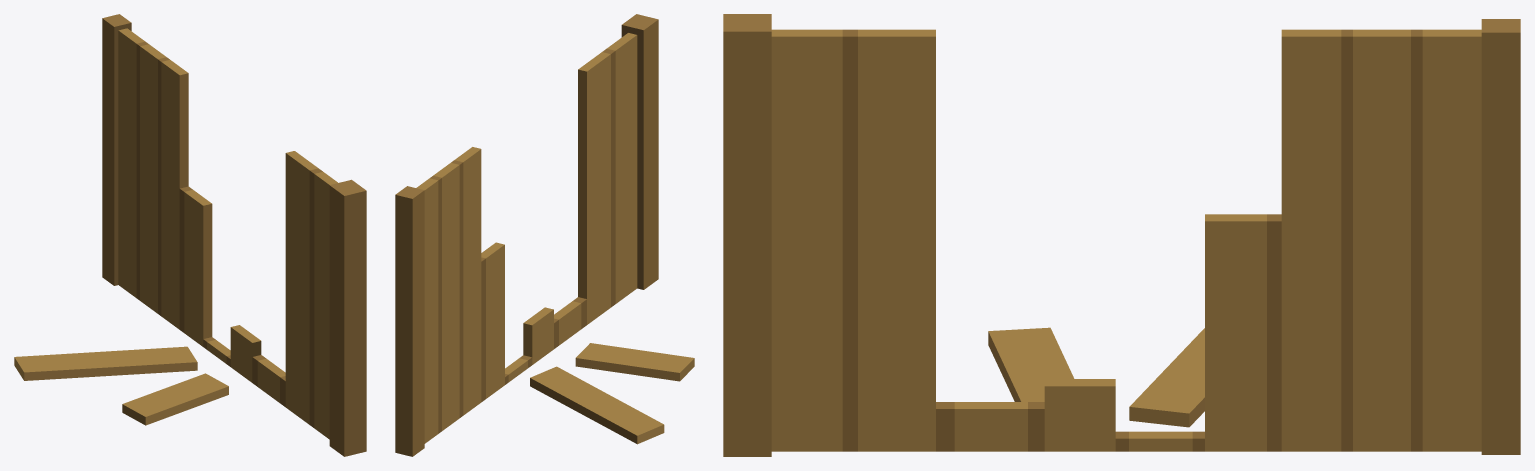
File: SA_Prop_Fence_Wood_Damaged_01.glb
3 views of the same model, side by side, from view 1: azimuth 30°, elevation 25°; view 2: azimuth 150°, elevation 25°; view 3: azimuth 270°, elevation 25° (orthographic). The views are drawn at different scales.
Parts seen in each view (by area): view 1: SA_Prop_Fence_Wood_Damaged_01; view 2: SA_Prop_Fence_Wood_Damaged_01; view 3: SA_Prop_Fence_Wood_Damaged_01.
Boxes of the visible parts, box(x1,y1,x2,y2) form: SA_Prop_Fence_Wood_Damaged_01: box(14, 14, 366, 456); SA_Prop_Fence_Wood_Damaged_01: box(395, 14, 694, 456); SA_Prop_Fence_Wood_Damaged_01: box(723, 14, 1520, 456).
Size of the model in its own units: 0.9828 by 1.32 by 2.25.
1 material, 1 textured.
